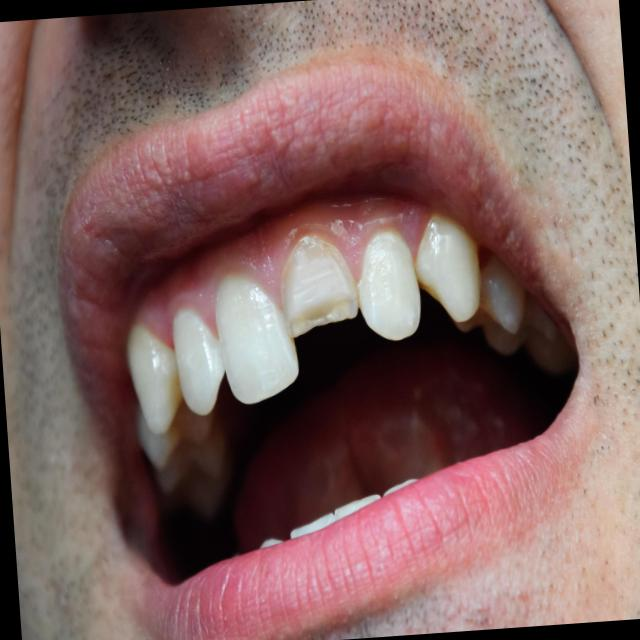Crack: (290, 298, 357, 337)
Tooth: (215, 272, 300, 404), (280, 235, 358, 338), (415, 211, 481, 322), (357, 228, 420, 341), (126, 326, 183, 435), (173, 307, 225, 416)
